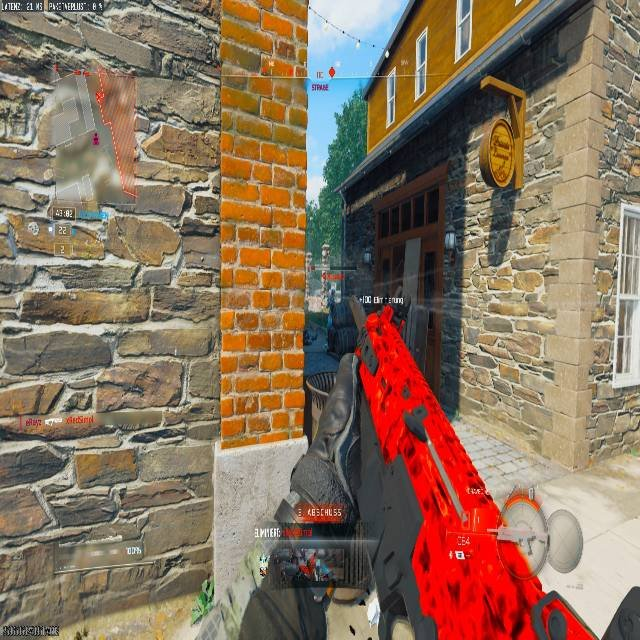player: (303, 285, 364, 454), (326, 286, 337, 313)
